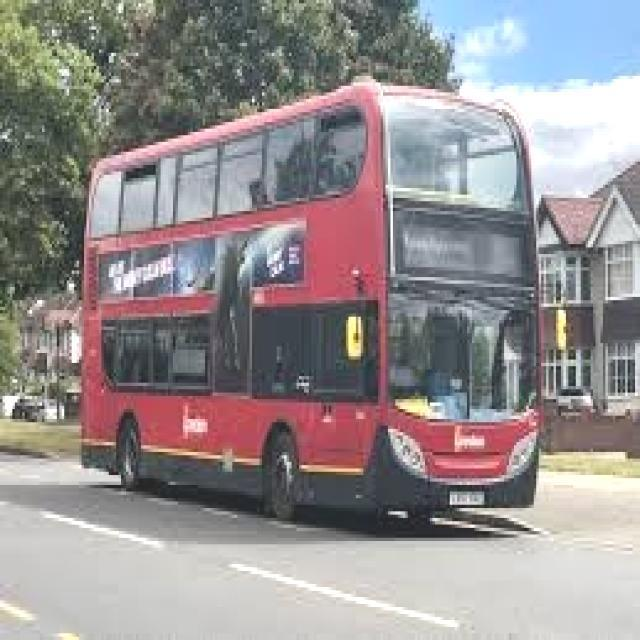Bus: (29, 43, 582, 540)
